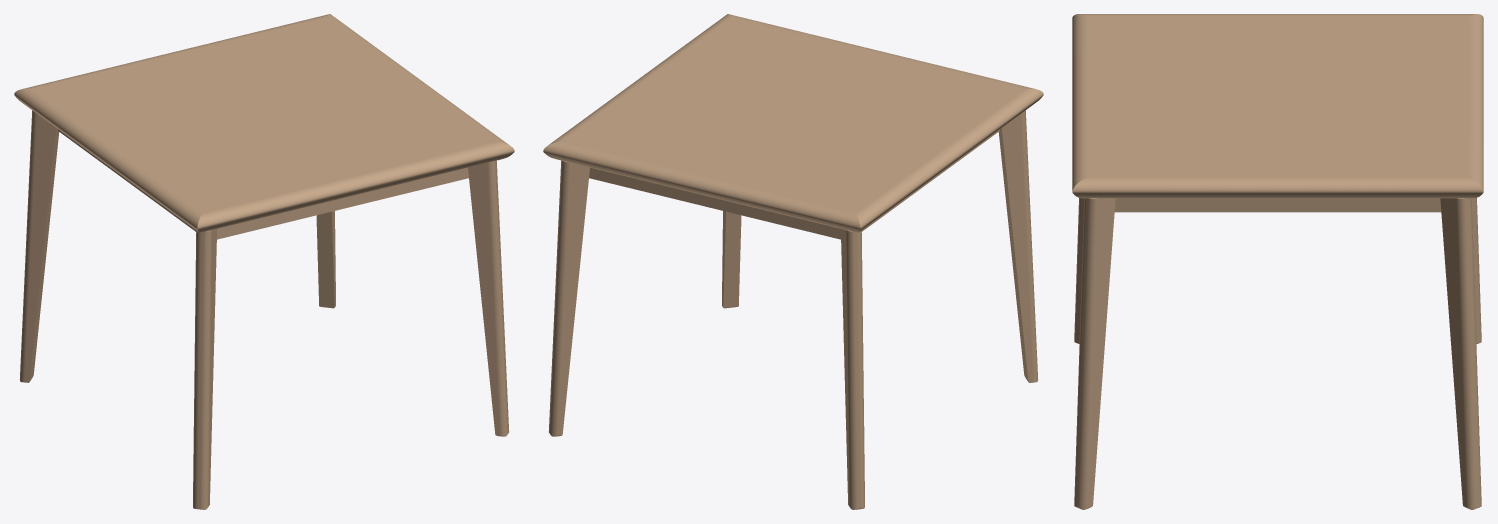
The model's file is 541_ダイニングテーブル2人掛け.glb.
3 views of the same model, side by side, from view 1: azimuth 30°, elevation 25°; view 2: azimuth 150°, elevation 25°; view 3: azimuth 270°, elevation 25° (orthographic). The views are drawn at different scales.
Parts seen in each view (by area): view 1: Body; view 2: Body; view 3: Body.
Boxes of the visible parts, x1,y1,x2,y2 form: Body: (14, 14, 514, 509); Body: (543, 14, 1043, 509); Body: (1072, 14, 1483, 509).
Size of the model in its own units: 0.7974 by 0.7 by 0.7974.
